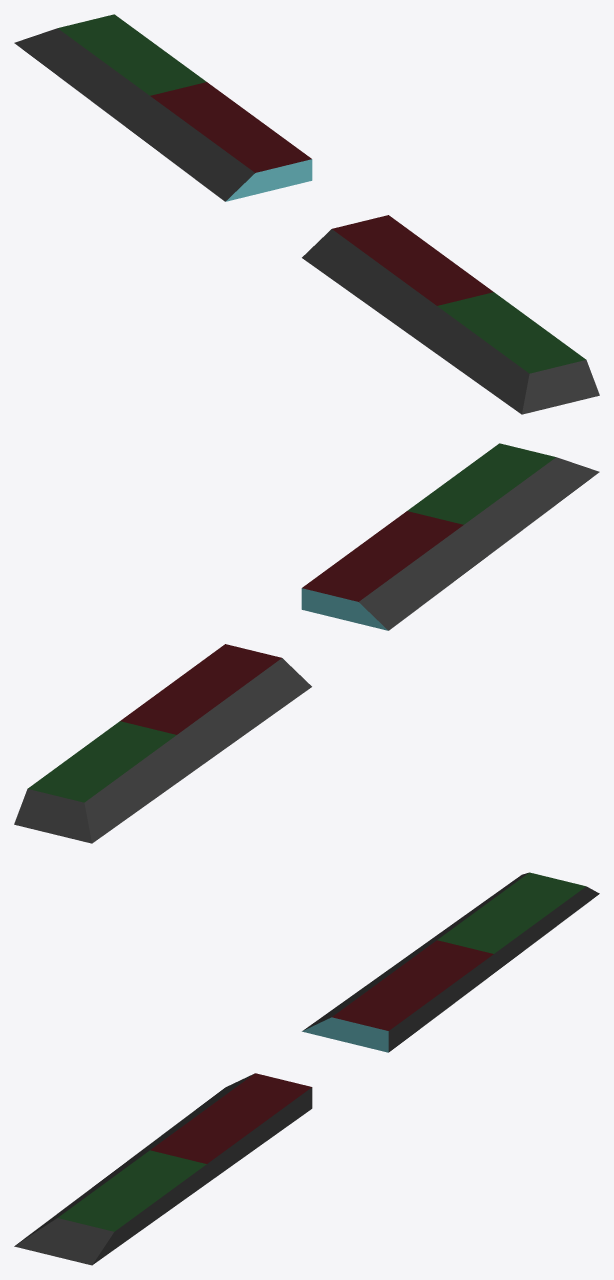
The model's file is outsite_planter.fbx.
3 renders of one model, top to bottom at view 1: azimuth 30°, elevation 25°; view 2: azimuth 150°, elevation 25°; view 3: azimuth 330°, elevation 25°, orthographic.
Parts seen in each view (by area): view 1: outsite_planter; view 2: outsite_planter; view 3: outsite_planter.
Part boxes in pixels (box(x1,y1,x2,y2)): outsite_planter: box(14, 14, 599, 414); outsite_planter: box(14, 443, 599, 843); outsite_planter: box(14, 872, 599, 1265).
Bounding box in the file's own units: 483 × 115 × 4882.
